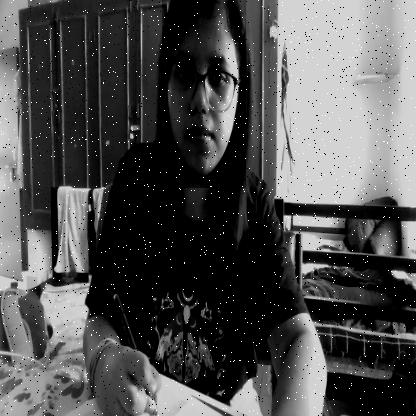Normal: (162, 0, 246, 188)
